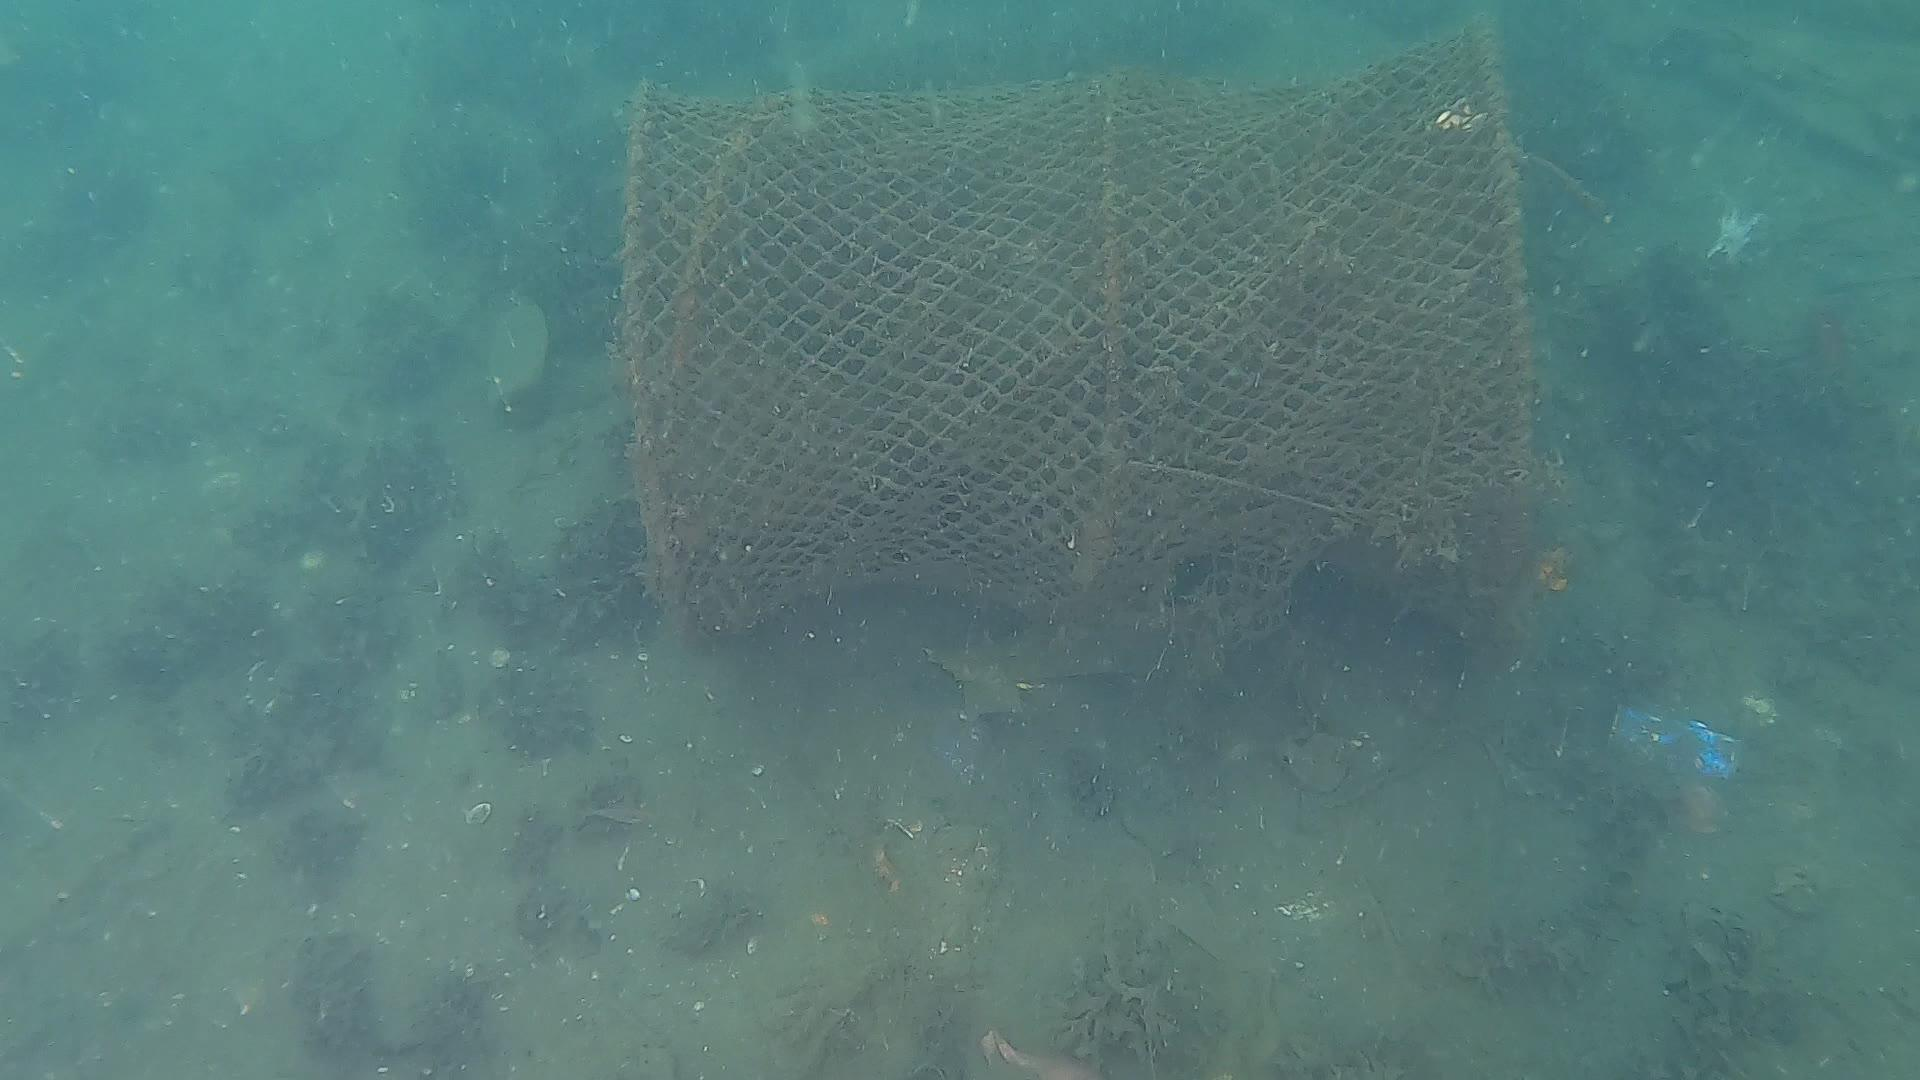spring fish trap: (611, 22, 1542, 662)
